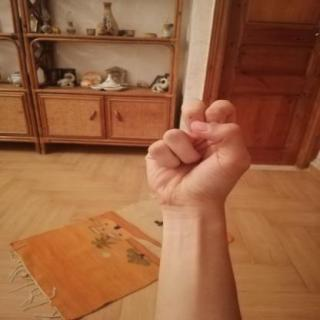QAAF: (133, 90, 263, 222)
